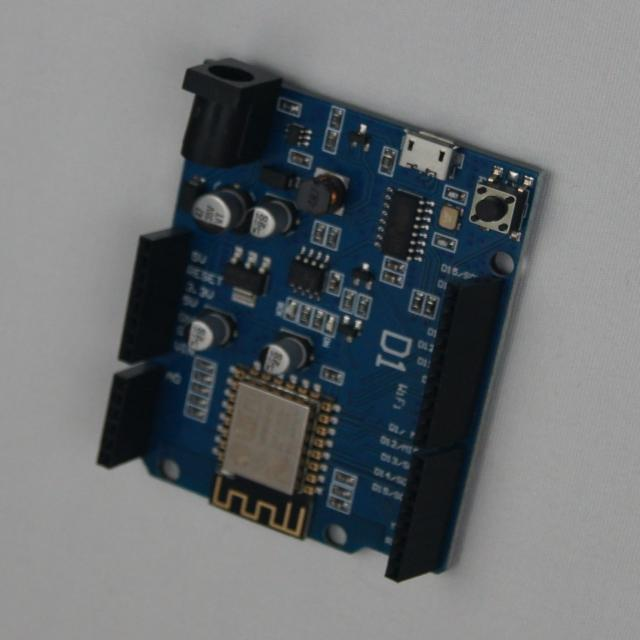Arduino Uno WiFi Shield: (98, 60, 544, 582)
